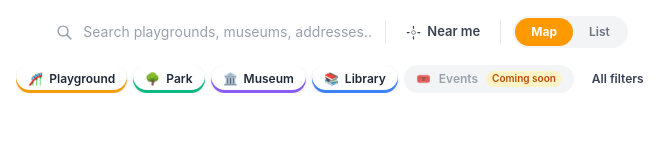
activity keyword search (issue #212) › finds library rows via "storytime"
In the dropdown with placeholder "Search playgrounds, museums, addresses…": [228, 32] box [83,22,373,42], type "storytime"
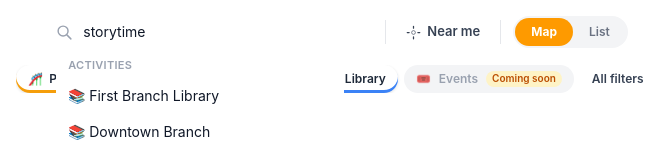
Expected: the option "📚 Downtown Branch" is shown, [56,114,344,150]
Expected: the option "📚 First Branch Library" is shown, [56,78,344,114]
